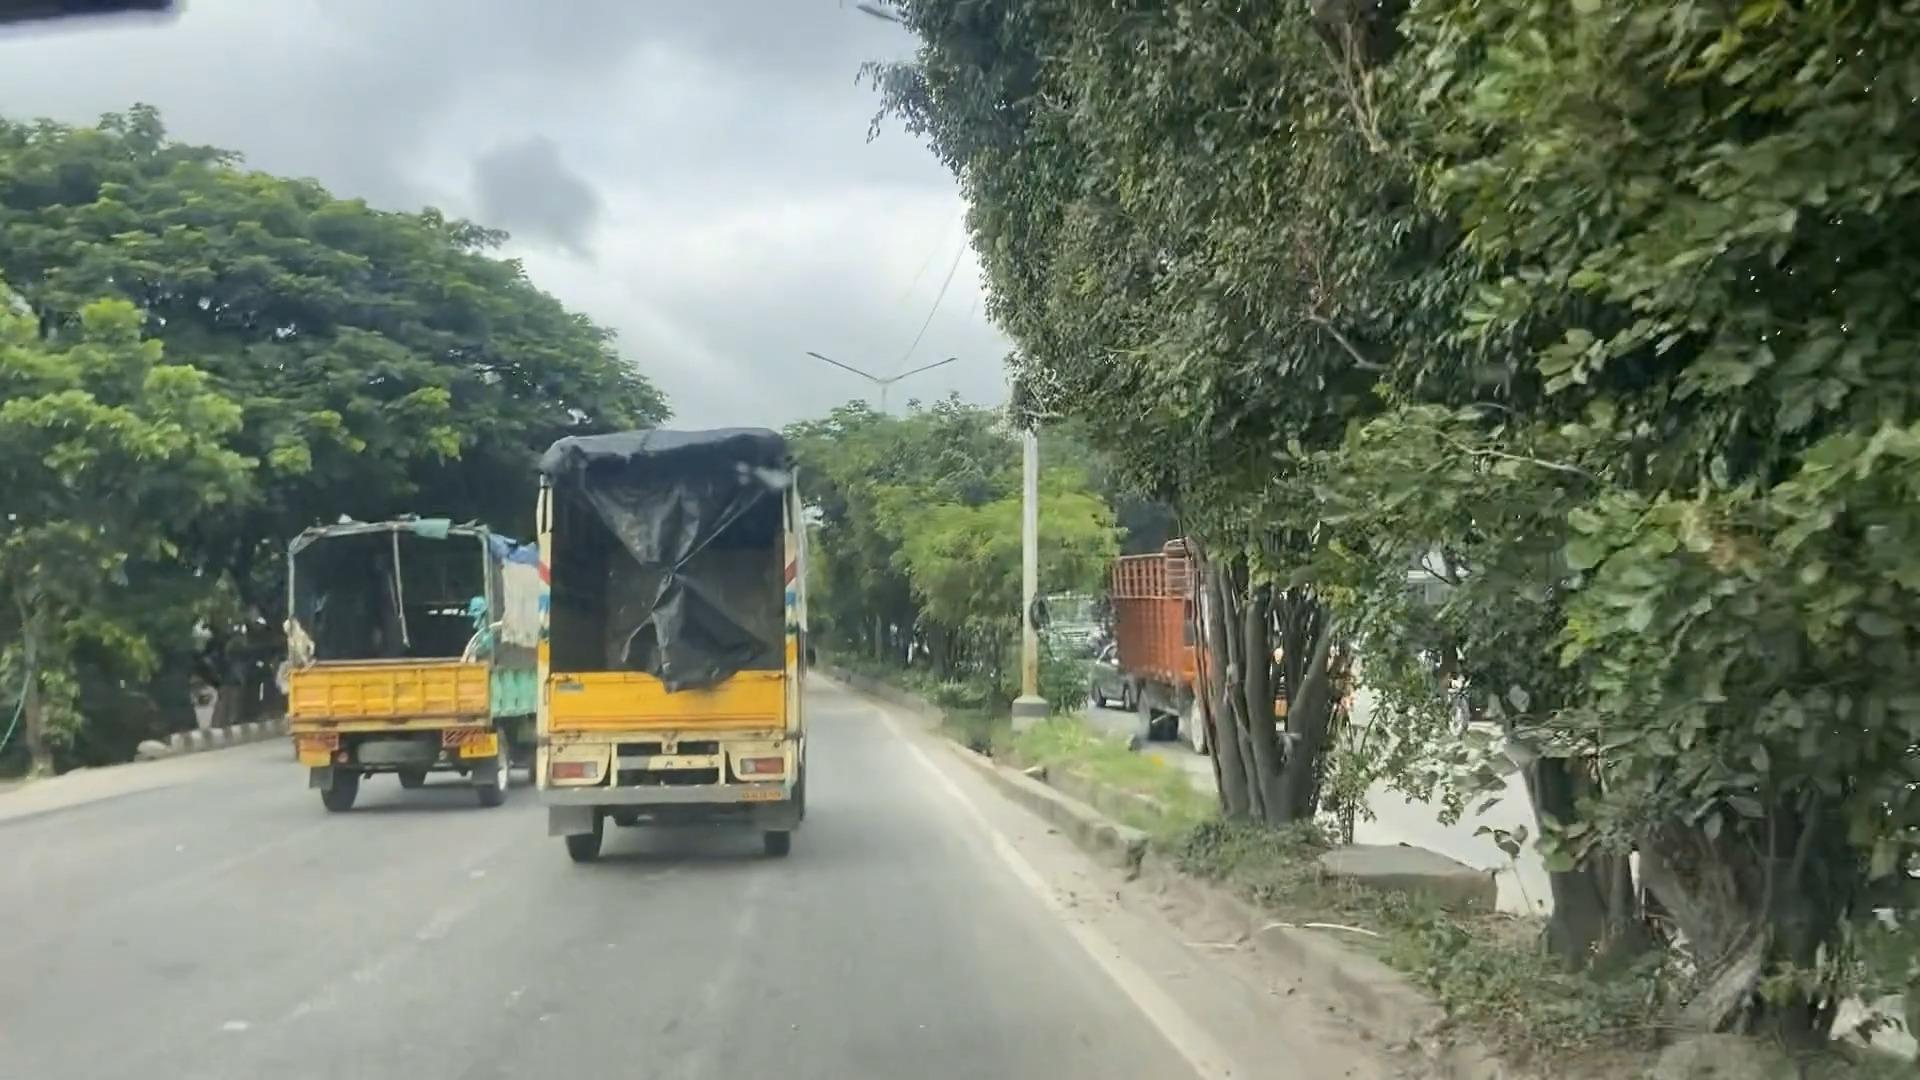HMV: (508, 382, 820, 885), (265, 491, 530, 825)
